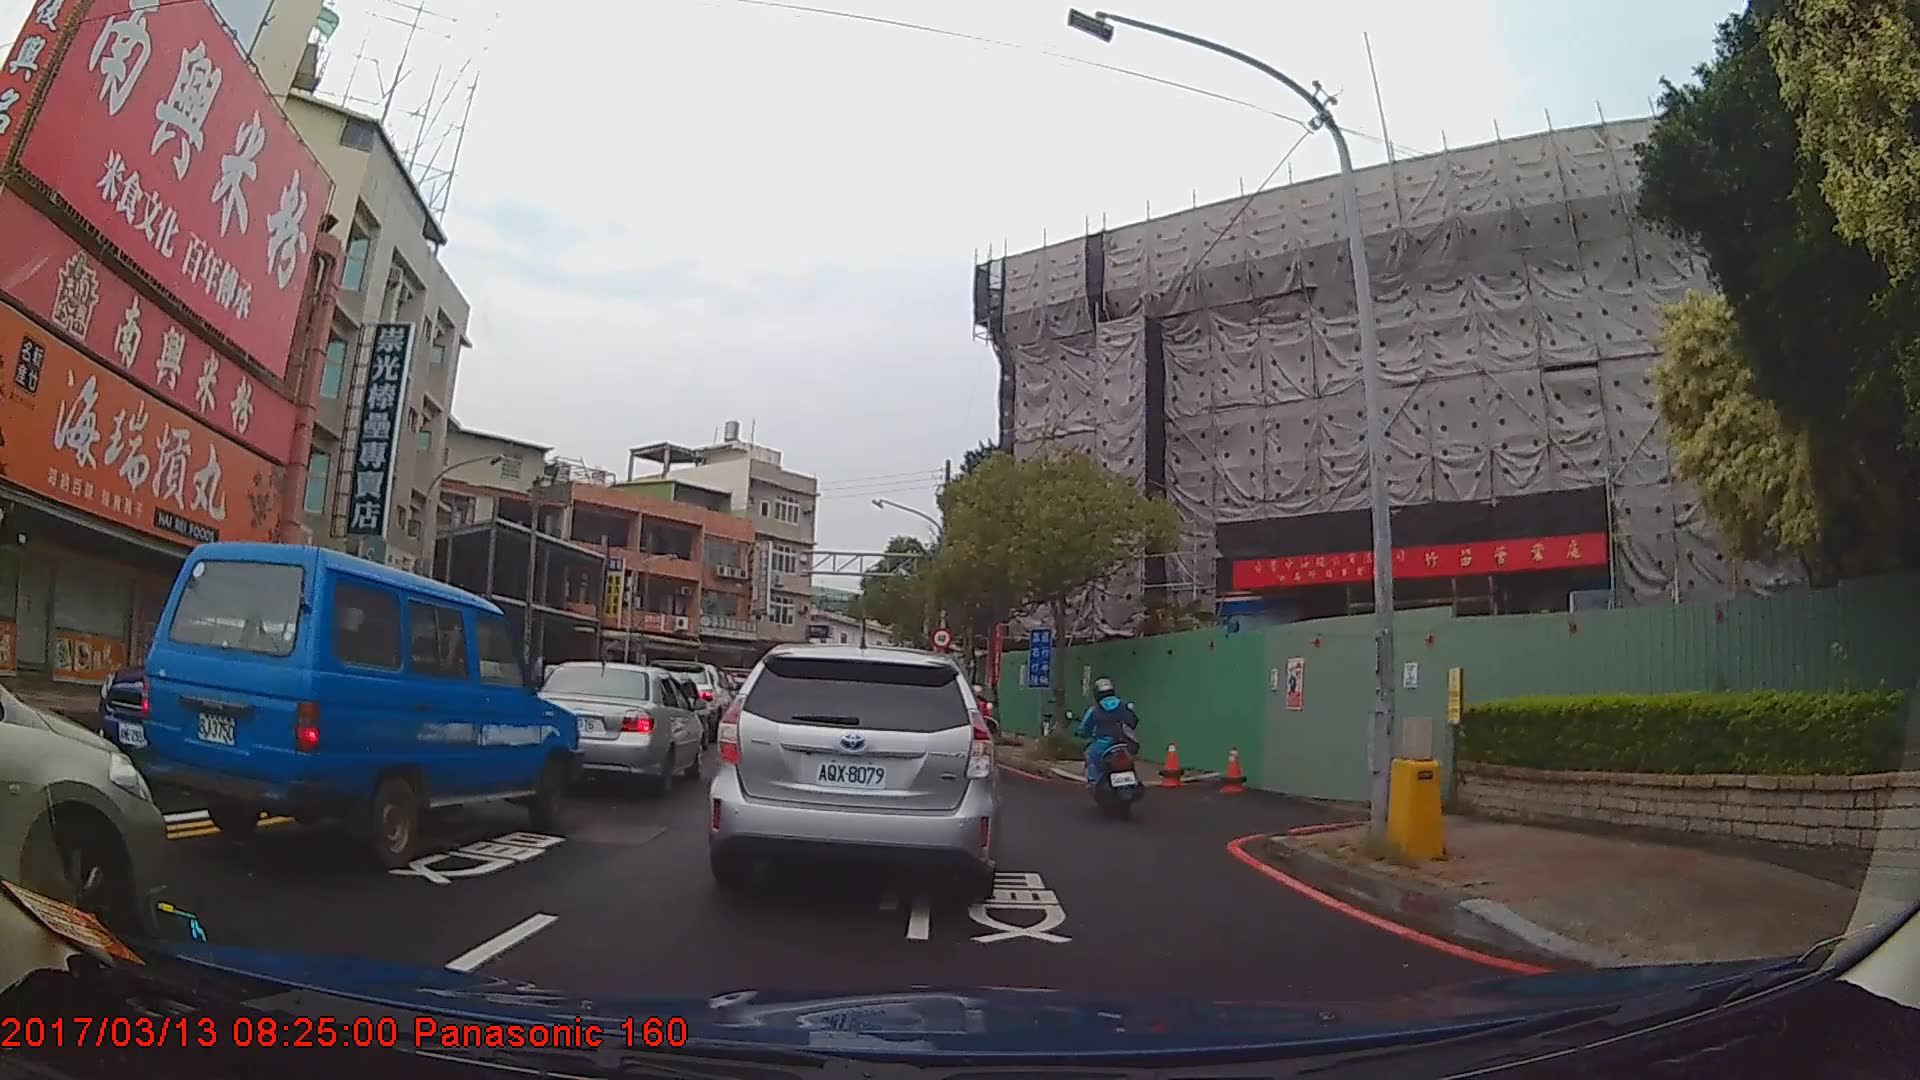rider: (1084, 682, 1142, 820), (960, 684, 998, 770)
vehicle: (136, 539, 581, 870), (705, 644, 1005, 899), (0, 679, 168, 957), (526, 660, 703, 793)
